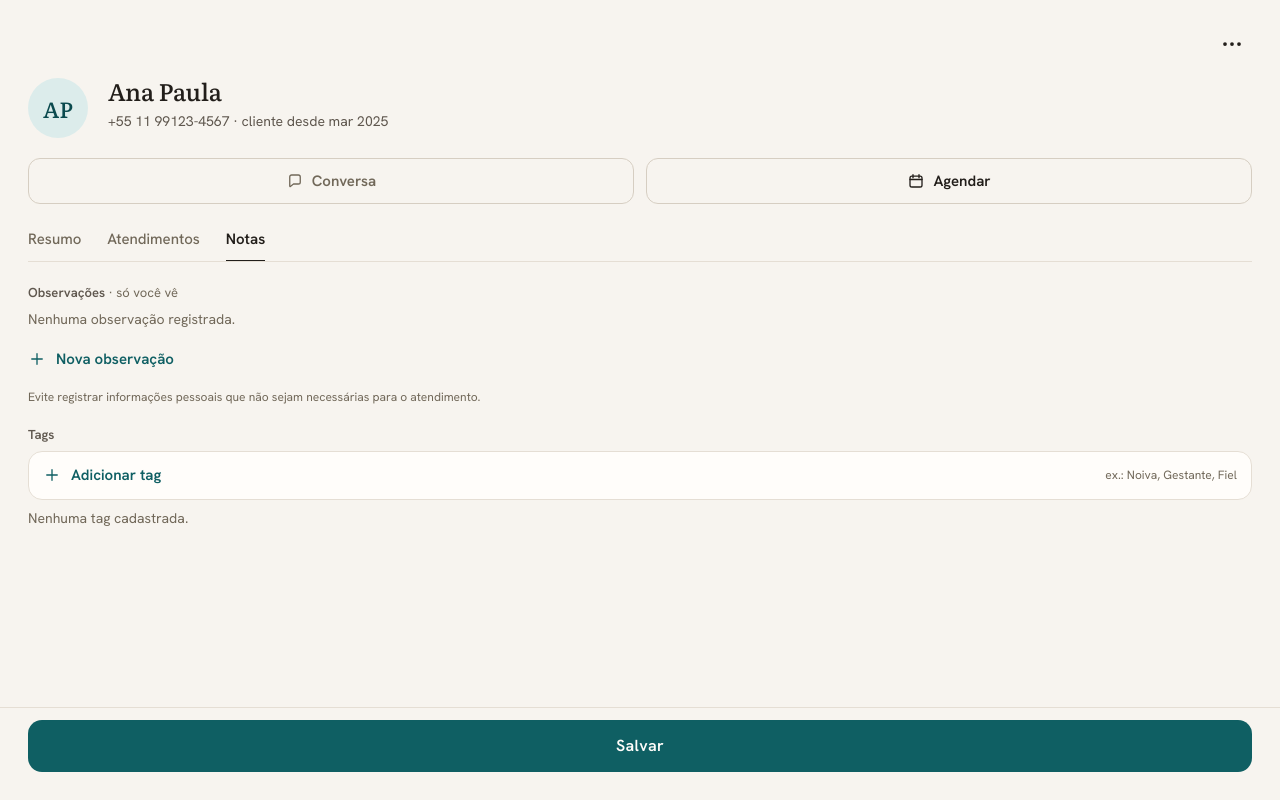
Test: Goal094 prova 4 (CL7): Notas › a barra 'Salvar' envia a observação aberta com o mesmo pedido de hoje
The width and height of the screenshot is (1280, 800).
Step 1. Click the button "Nova observação" → (115, 359), box [28,337,1252,381]
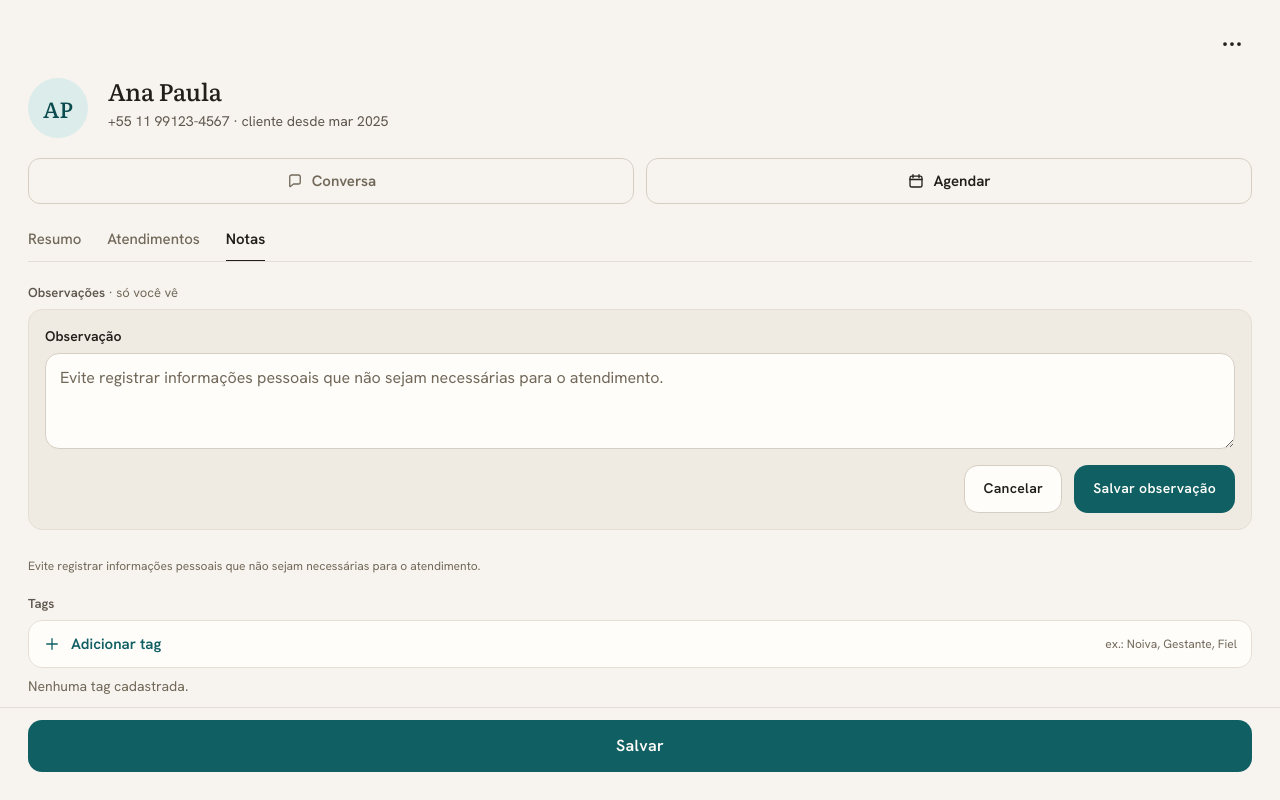
Step 2. Type "Prefere à tarde" into the text box labelled "Observação" → (640, 401), box [45,353,1235,449]
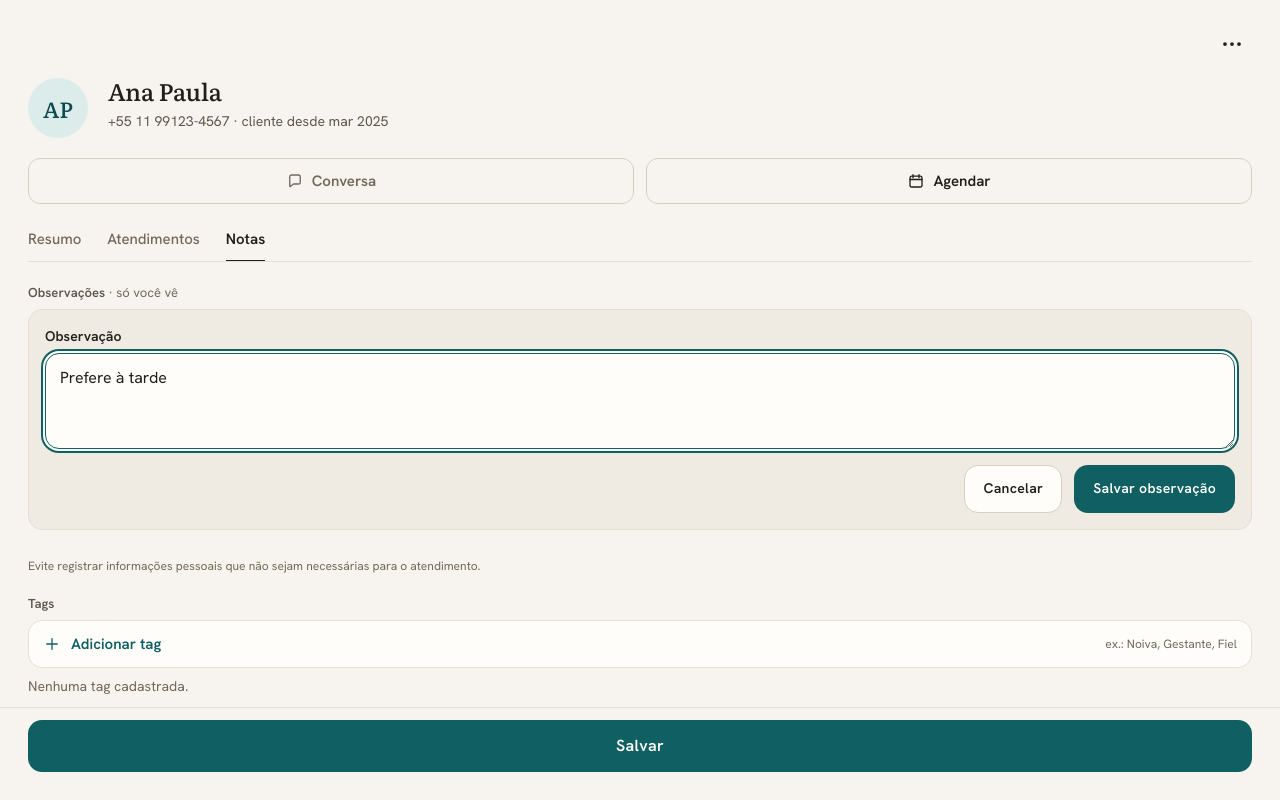
Step 3. Click the button "Salvar" → (640, 746), box [28,720,1252,772]
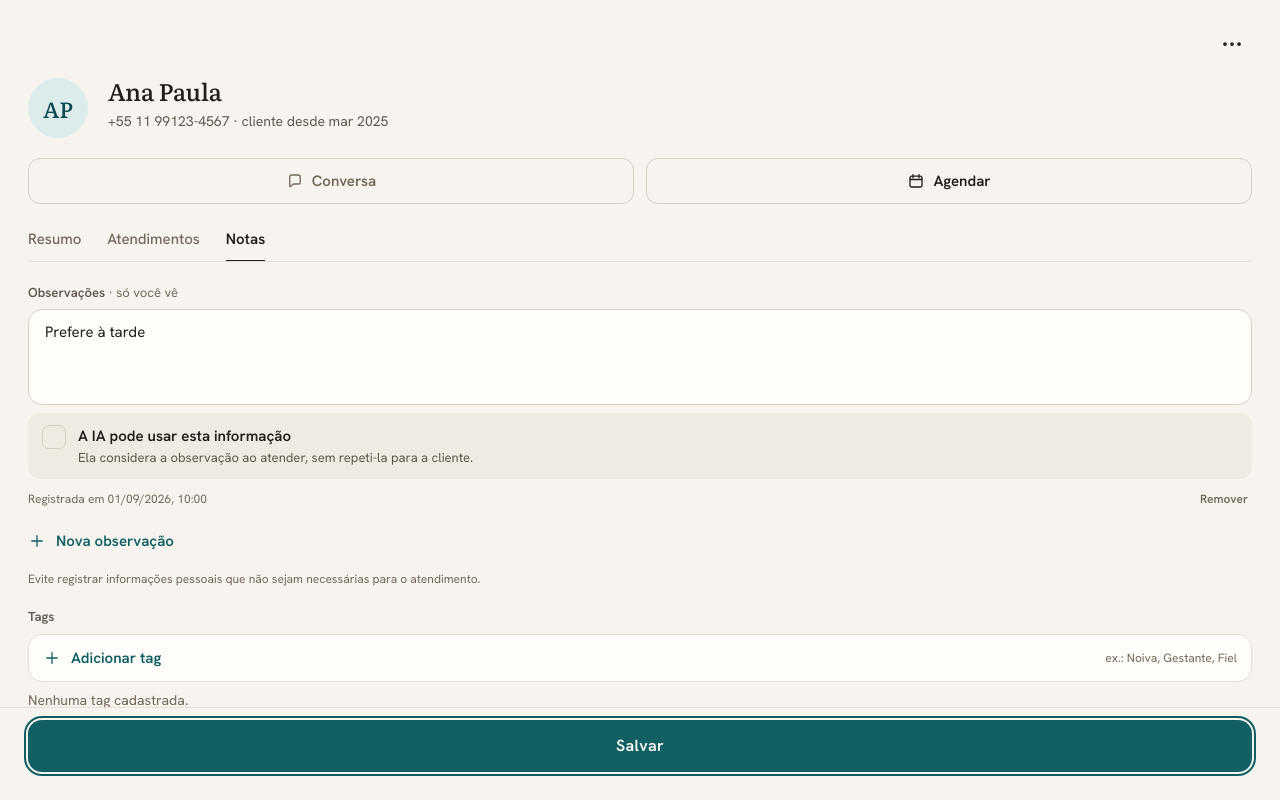
Expected: the checkbox labelled "A IA pode usar esta informação" is not checked, [28,413,1252,480]
